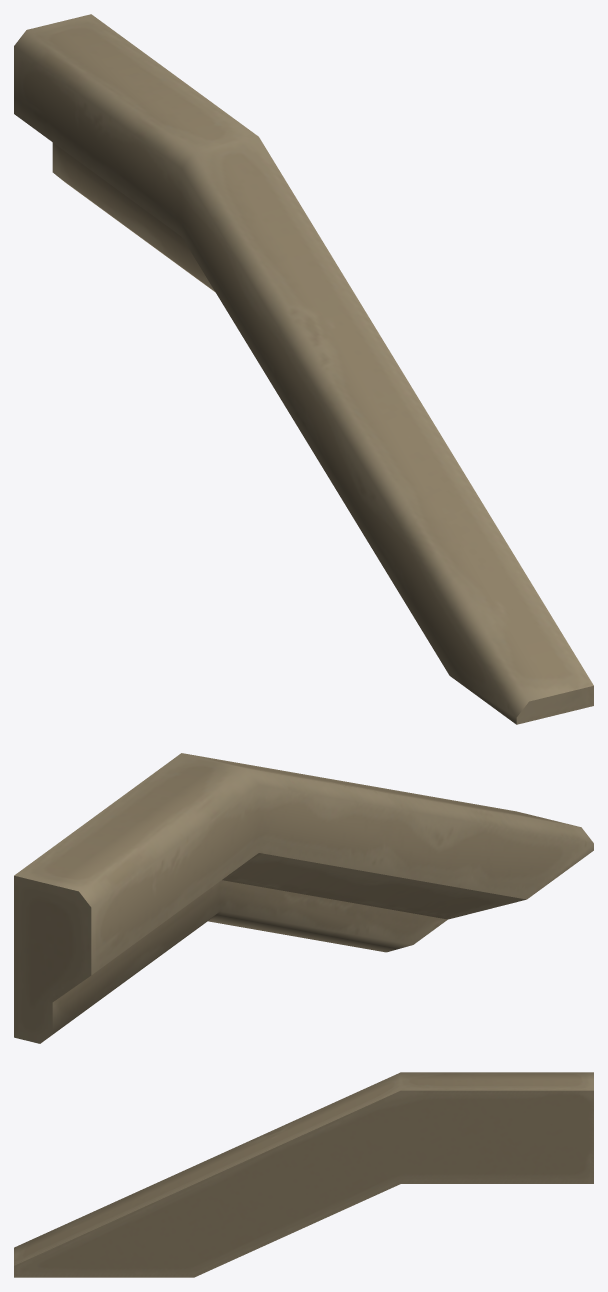
File: ARC0510054.fbx
The picture shows the model from 3 angles, top to bottom: view 1: azimuth 30°, elevation 25°; view 2: azimuth 150°, elevation 25°; view 3: azimuth 270°, elevation 25°; orthographic projection. The views are drawn at different scales.
Parts seen in each view (by area): view 1: smARC0510054; view 2: smARC0510054; view 3: smARC0510054.
Part boxes in pixels (x1,y1,x2,y2): smARC0510054: [14, 14, 593, 724]; smARC0510054: [14, 753, 593, 1043]; smARC0510054: [14, 1072, 593, 1277].
Bounding box in the file's own units: 20 × 80 × 225.
Materials: 1 (1 with a texture image).
